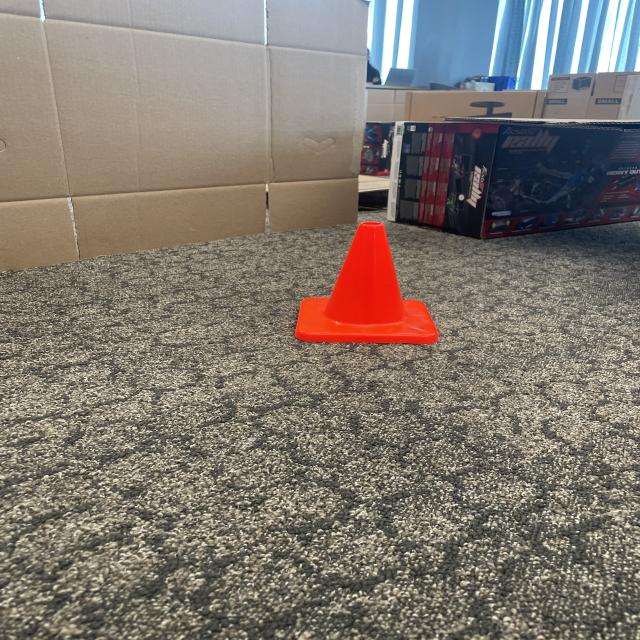Traffic Cone: (294, 222, 442, 348)
